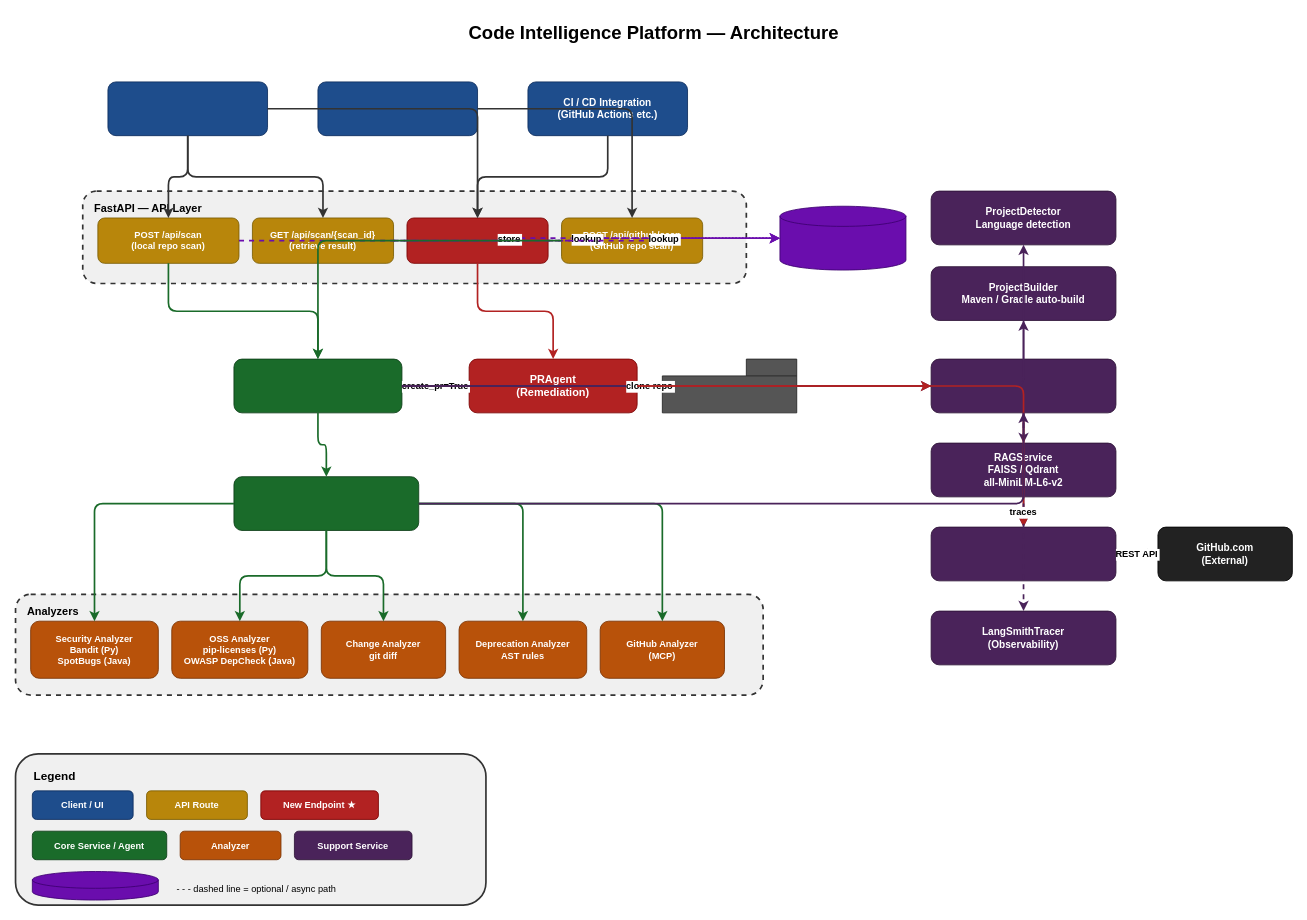
The diagram is 1307 pixels wide and 920 high, and some of its shapes have lost their labels. Here are the shapes that lost their labels. From the top down, the centre of each, then its label:
the point at 187,108: Frontend Dashboard (React / TypeScript)
the point at 397,108: CLI scan_github_repo.py
the point at 477,240: POST /api/scan/{scan_id} /remediate ★ NEW
the point at 842,237: SCAN_STORE (in-memory dict)
the point at 317,385: ScanService (Full Pipeline)
the point at 729,385: Temp Clone (git clone --depth 1)
the point at 1023,385: LLMService Ollama / Groq / OpenAI / HF
the point at 326,503: OrchestratorAgent decide → run → combine
the point at 1023,553: MCPGitHubService GitHub REST API (MCP)
the point at 95,885: In-memory Store
